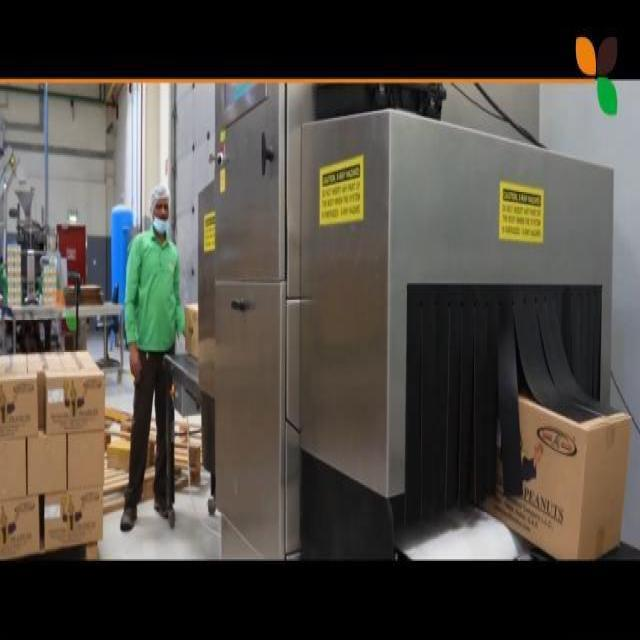bare_hand: (125, 333, 150, 381)
